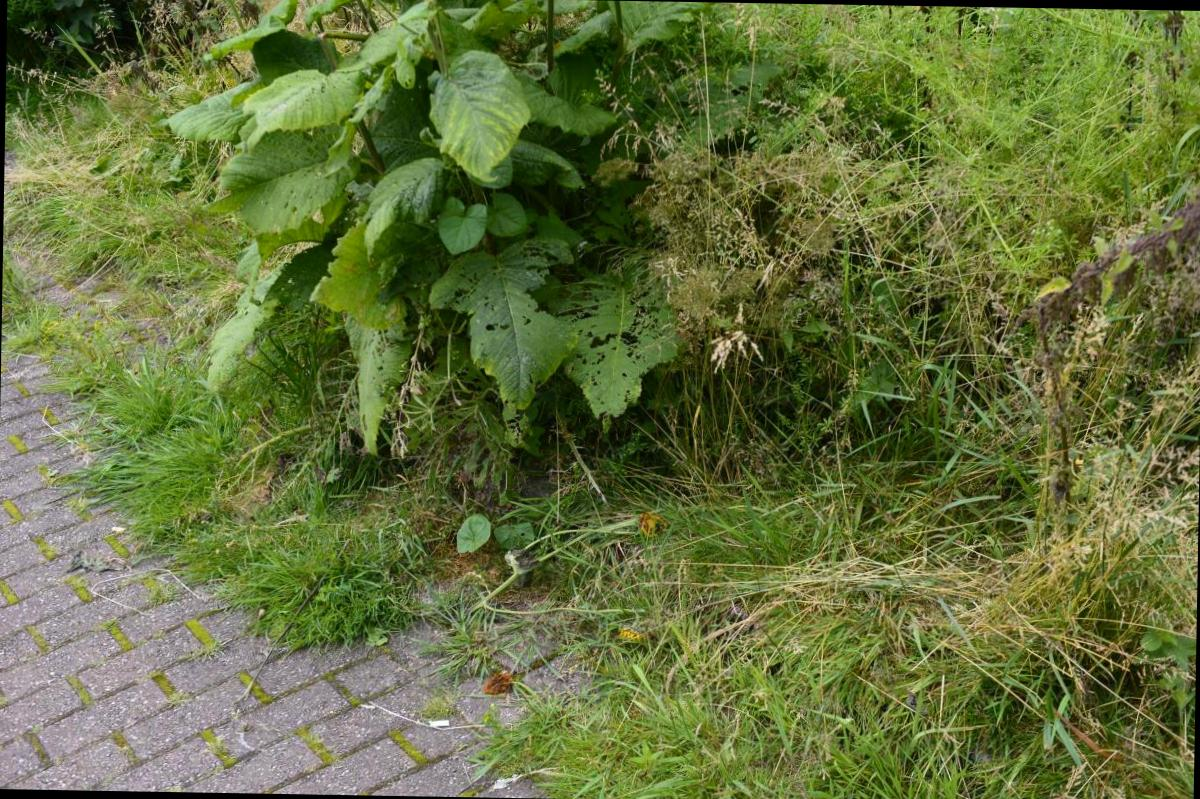overgrown grass: (65, 10, 1200, 799), (1, 49, 237, 326)
